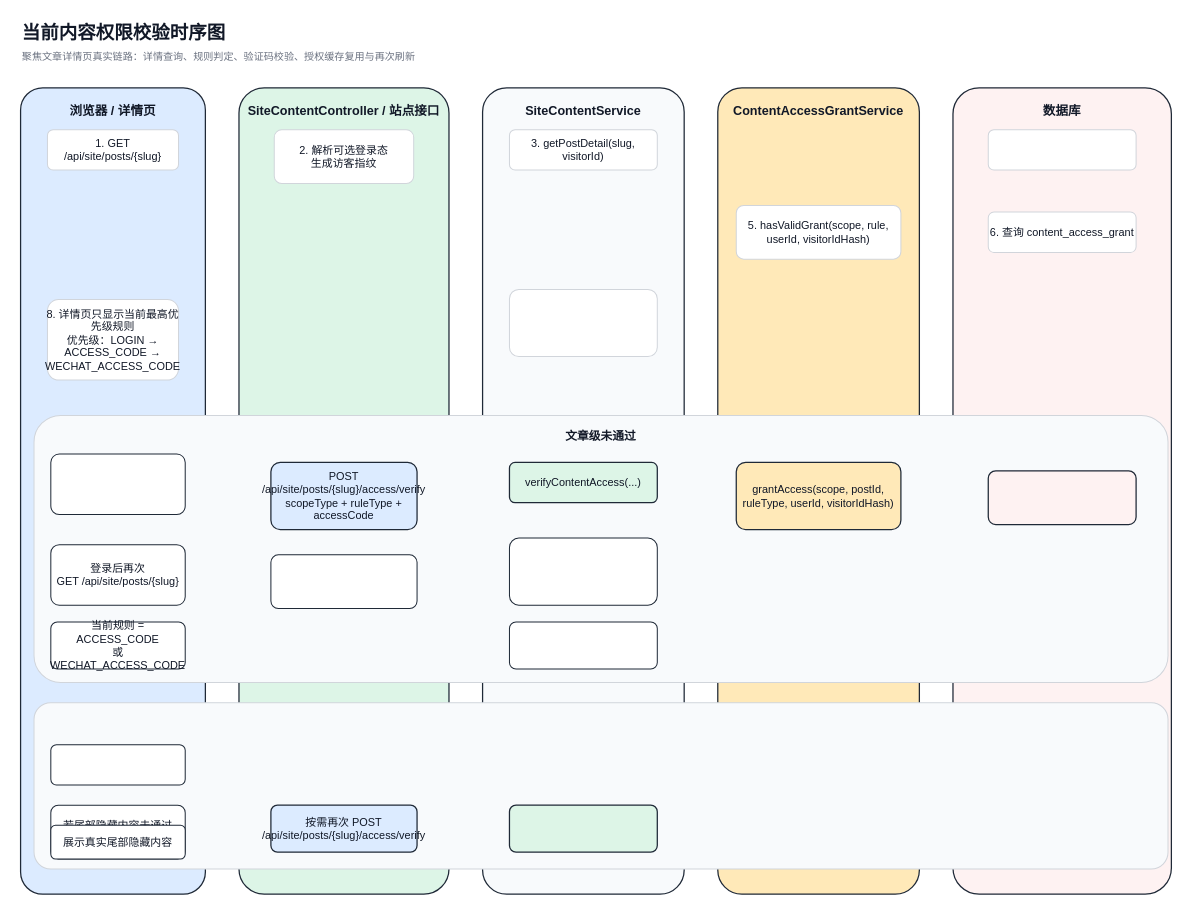
Some shapes in this 1187 by 910 pixel diagram are drawn without their labels. Each missing label, with the box of its shape:
4. 查询 post / post_content: (987, 129, 1136, 170)
7. 返回 contentHtml / tailHiddenContentHtml / contentAccessState: (509, 288, 657, 357)
写入或刷新 content_access_grant 有效期 7 天: (987, 470, 1136, 525)
展示正文与评论区: (50, 744, 185, 785)
当前规则 = LOGIN 跳转 /login?redirect=当前详情页: (50, 453, 185, 515)
文章级已通过: (33, 702, 1168, 869)
查询 post / post_content 校验规则启用与验证码: (509, 537, 657, 605)
校验成功后再次 GET /api/site/posts/{slug}: (508, 804, 658, 852)
解析可选登录态 生成访客指纹: (270, 554, 417, 609)
返回 granted = true + 最新 contentAccessState: (509, 621, 657, 669)
